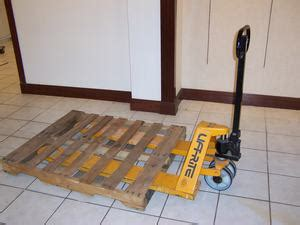Pallet Jack: (34, 24, 252, 201)
